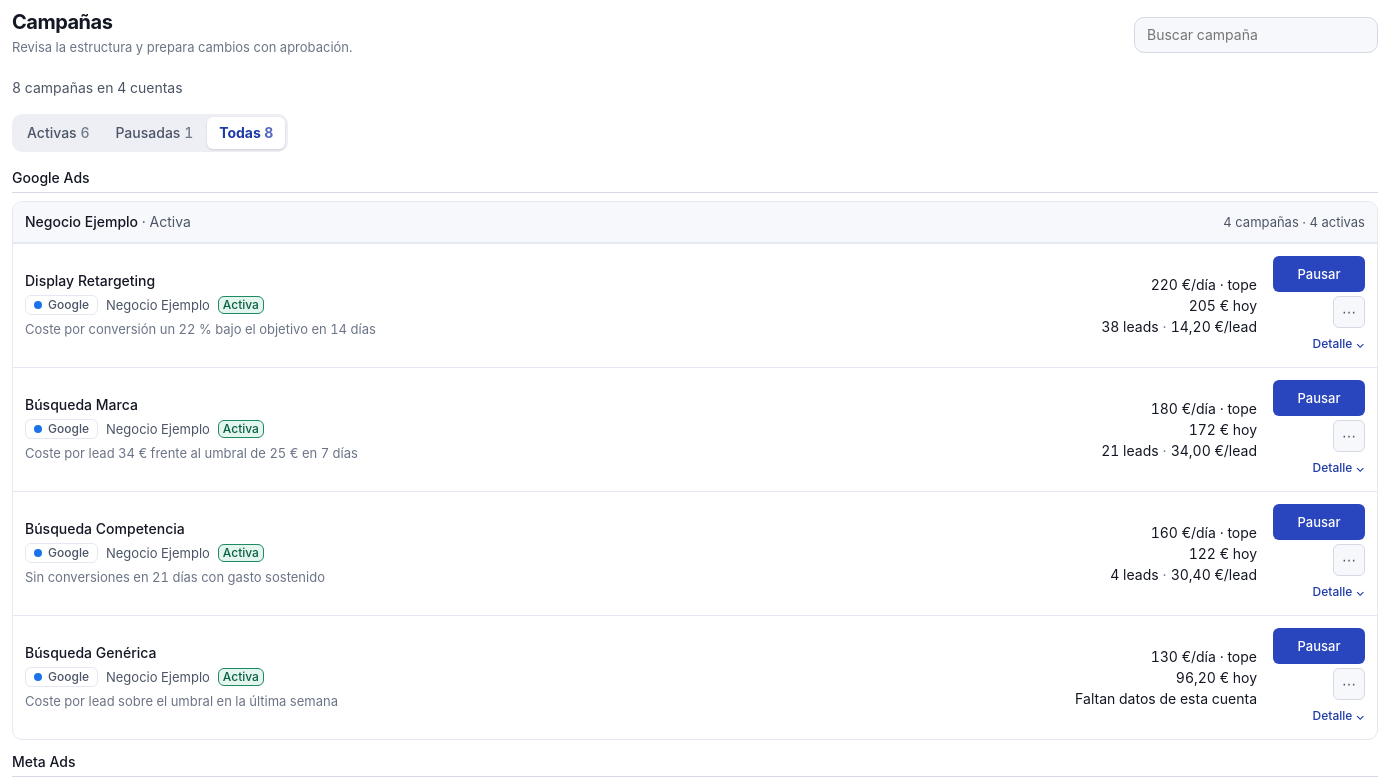
Test: CampanasPage › pausar es optimista, abre el aviso «Hecho» con deshacer y la fila pasa a Reanudar
# La única cuenta de Meta del fixture es de solo lectura — usamos una campaña de Google.
Click the button "Pausar" next to "180 €/día · tope": x=1319, y=398 x1=1273 y1=380 x2=1365 y2=416
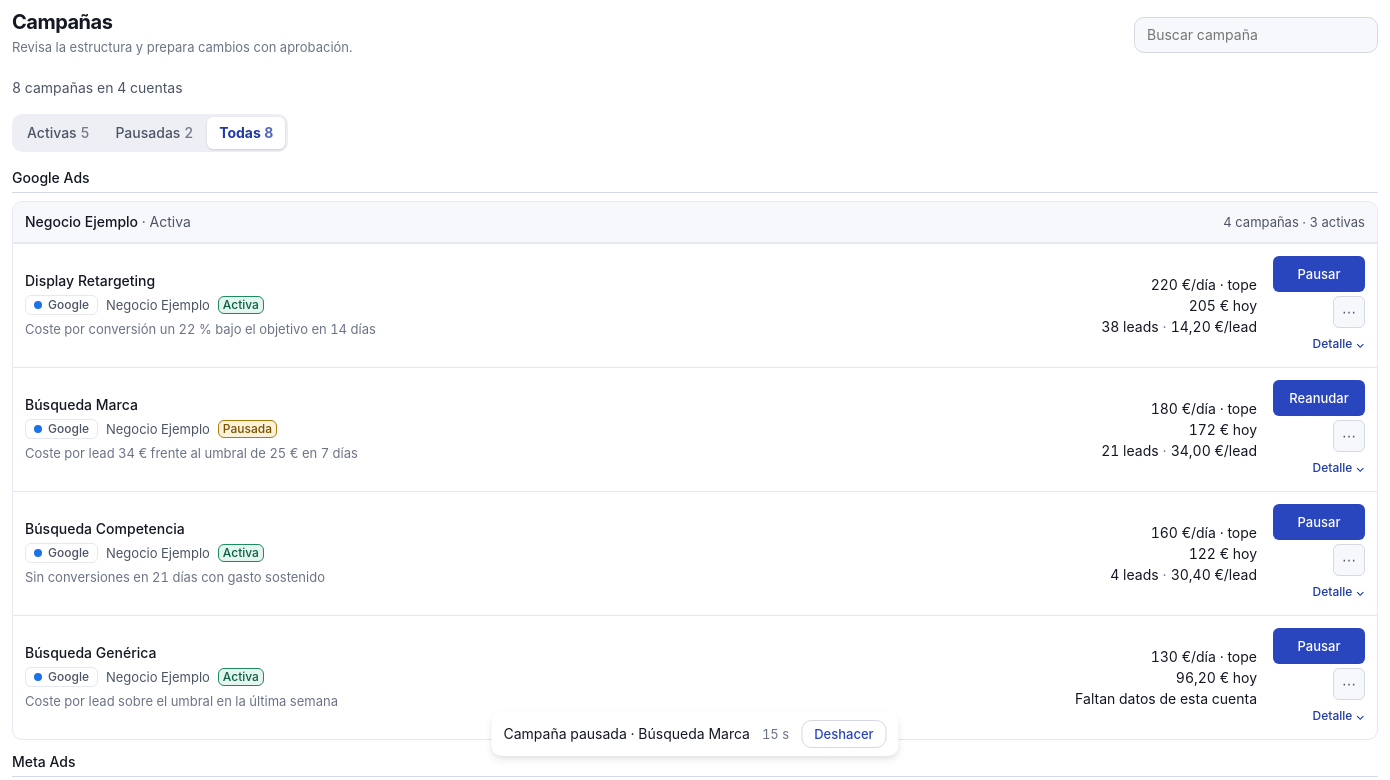
Expected: the button "Reanudar" is shown, x1=1273 y1=380 x2=1365 y2=416
Expected: the button "Deshacer" is shown, x1=801 y1=720 x2=887 y2=748
